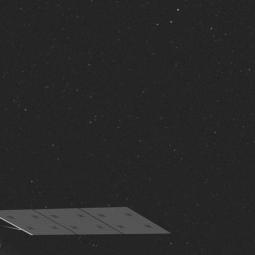xmm_newton: (0, 202, 162, 243)
